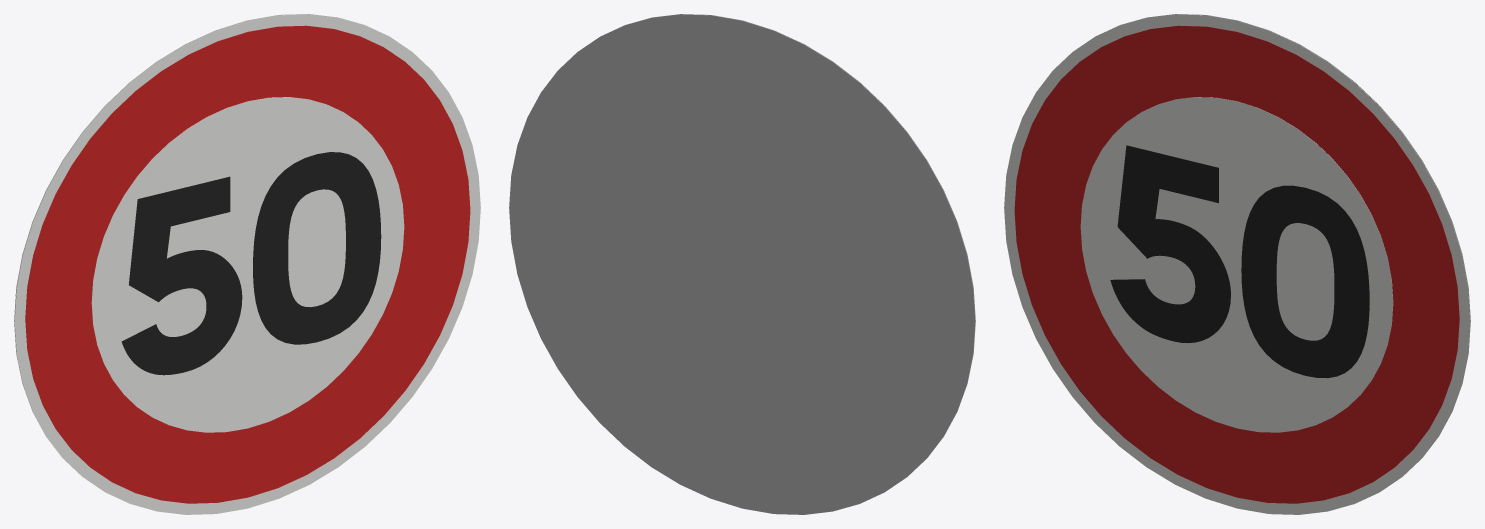
The picture shows the model from 3 angles, left to right: view 1: azimuth 30°, elevation 25°; view 2: azimuth 150°, elevation 25°; view 3: azimuth 330°, elevation 25°; orthographic projection.
Visible parts, largest first — view 1: B14-50_p01, B14-50_p02, B14-50_p00, B14-50_p04, B14-50_p03, B14-50_dos; view 2: B14-50_dos, B14-50_p00; view 3: B14-50_p01, B14-50_p02, B14-50_p00, B14-50_p04, B14-50_p03, B14-50_dos.
Boxes of the visible parts, left/top/right/bottom form: B14-50_p01: left=25, top=25, right=470, bottom=503; B14-50_p02: left=91, top=97, right=404, bottom=432; B14-50_p00: left=14, top=14, right=480, bottom=514; B14-50_p04: left=253, top=152, right=381, bottom=344; B14-50_p03: left=121, top=176, right=242, bottom=375; B14-50_dos: left=14, top=14, right=385, bottom=473; B14-50_dos: left=509, top=14, right=975, bottom=514; B14-50_p00: left=604, top=14, right=975, bottom=473; B14-50_p01: left=1014, top=25, right=1459, bottom=503; B14-50_p02: left=1080, top=97, right=1393, bottom=432; B14-50_p00: left=1004, top=14, right=1470, bottom=514; B14-50_p04: left=1241, top=185, right=1369, bottom=378; B14-50_p03: left=1110, top=145, right=1230, bottom=342; B14-50_dos: left=1099, top=14, right=1470, bottom=473.
Bounding box in the file's own units: 0.85 × 0.8498 × 0.0035.
